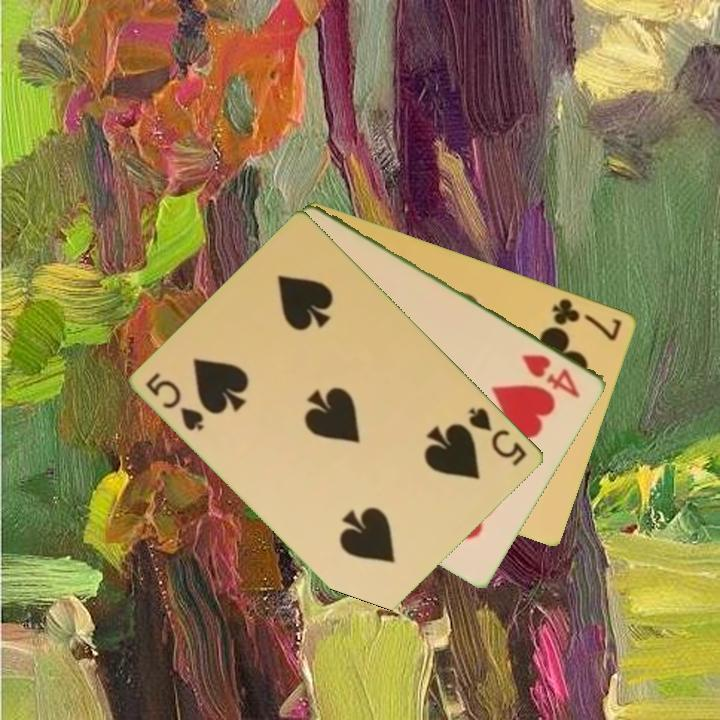4h: (519, 350, 584, 401)
5s: (142, 368, 208, 434), (466, 404, 531, 469)
7c: (549, 294, 625, 344)
